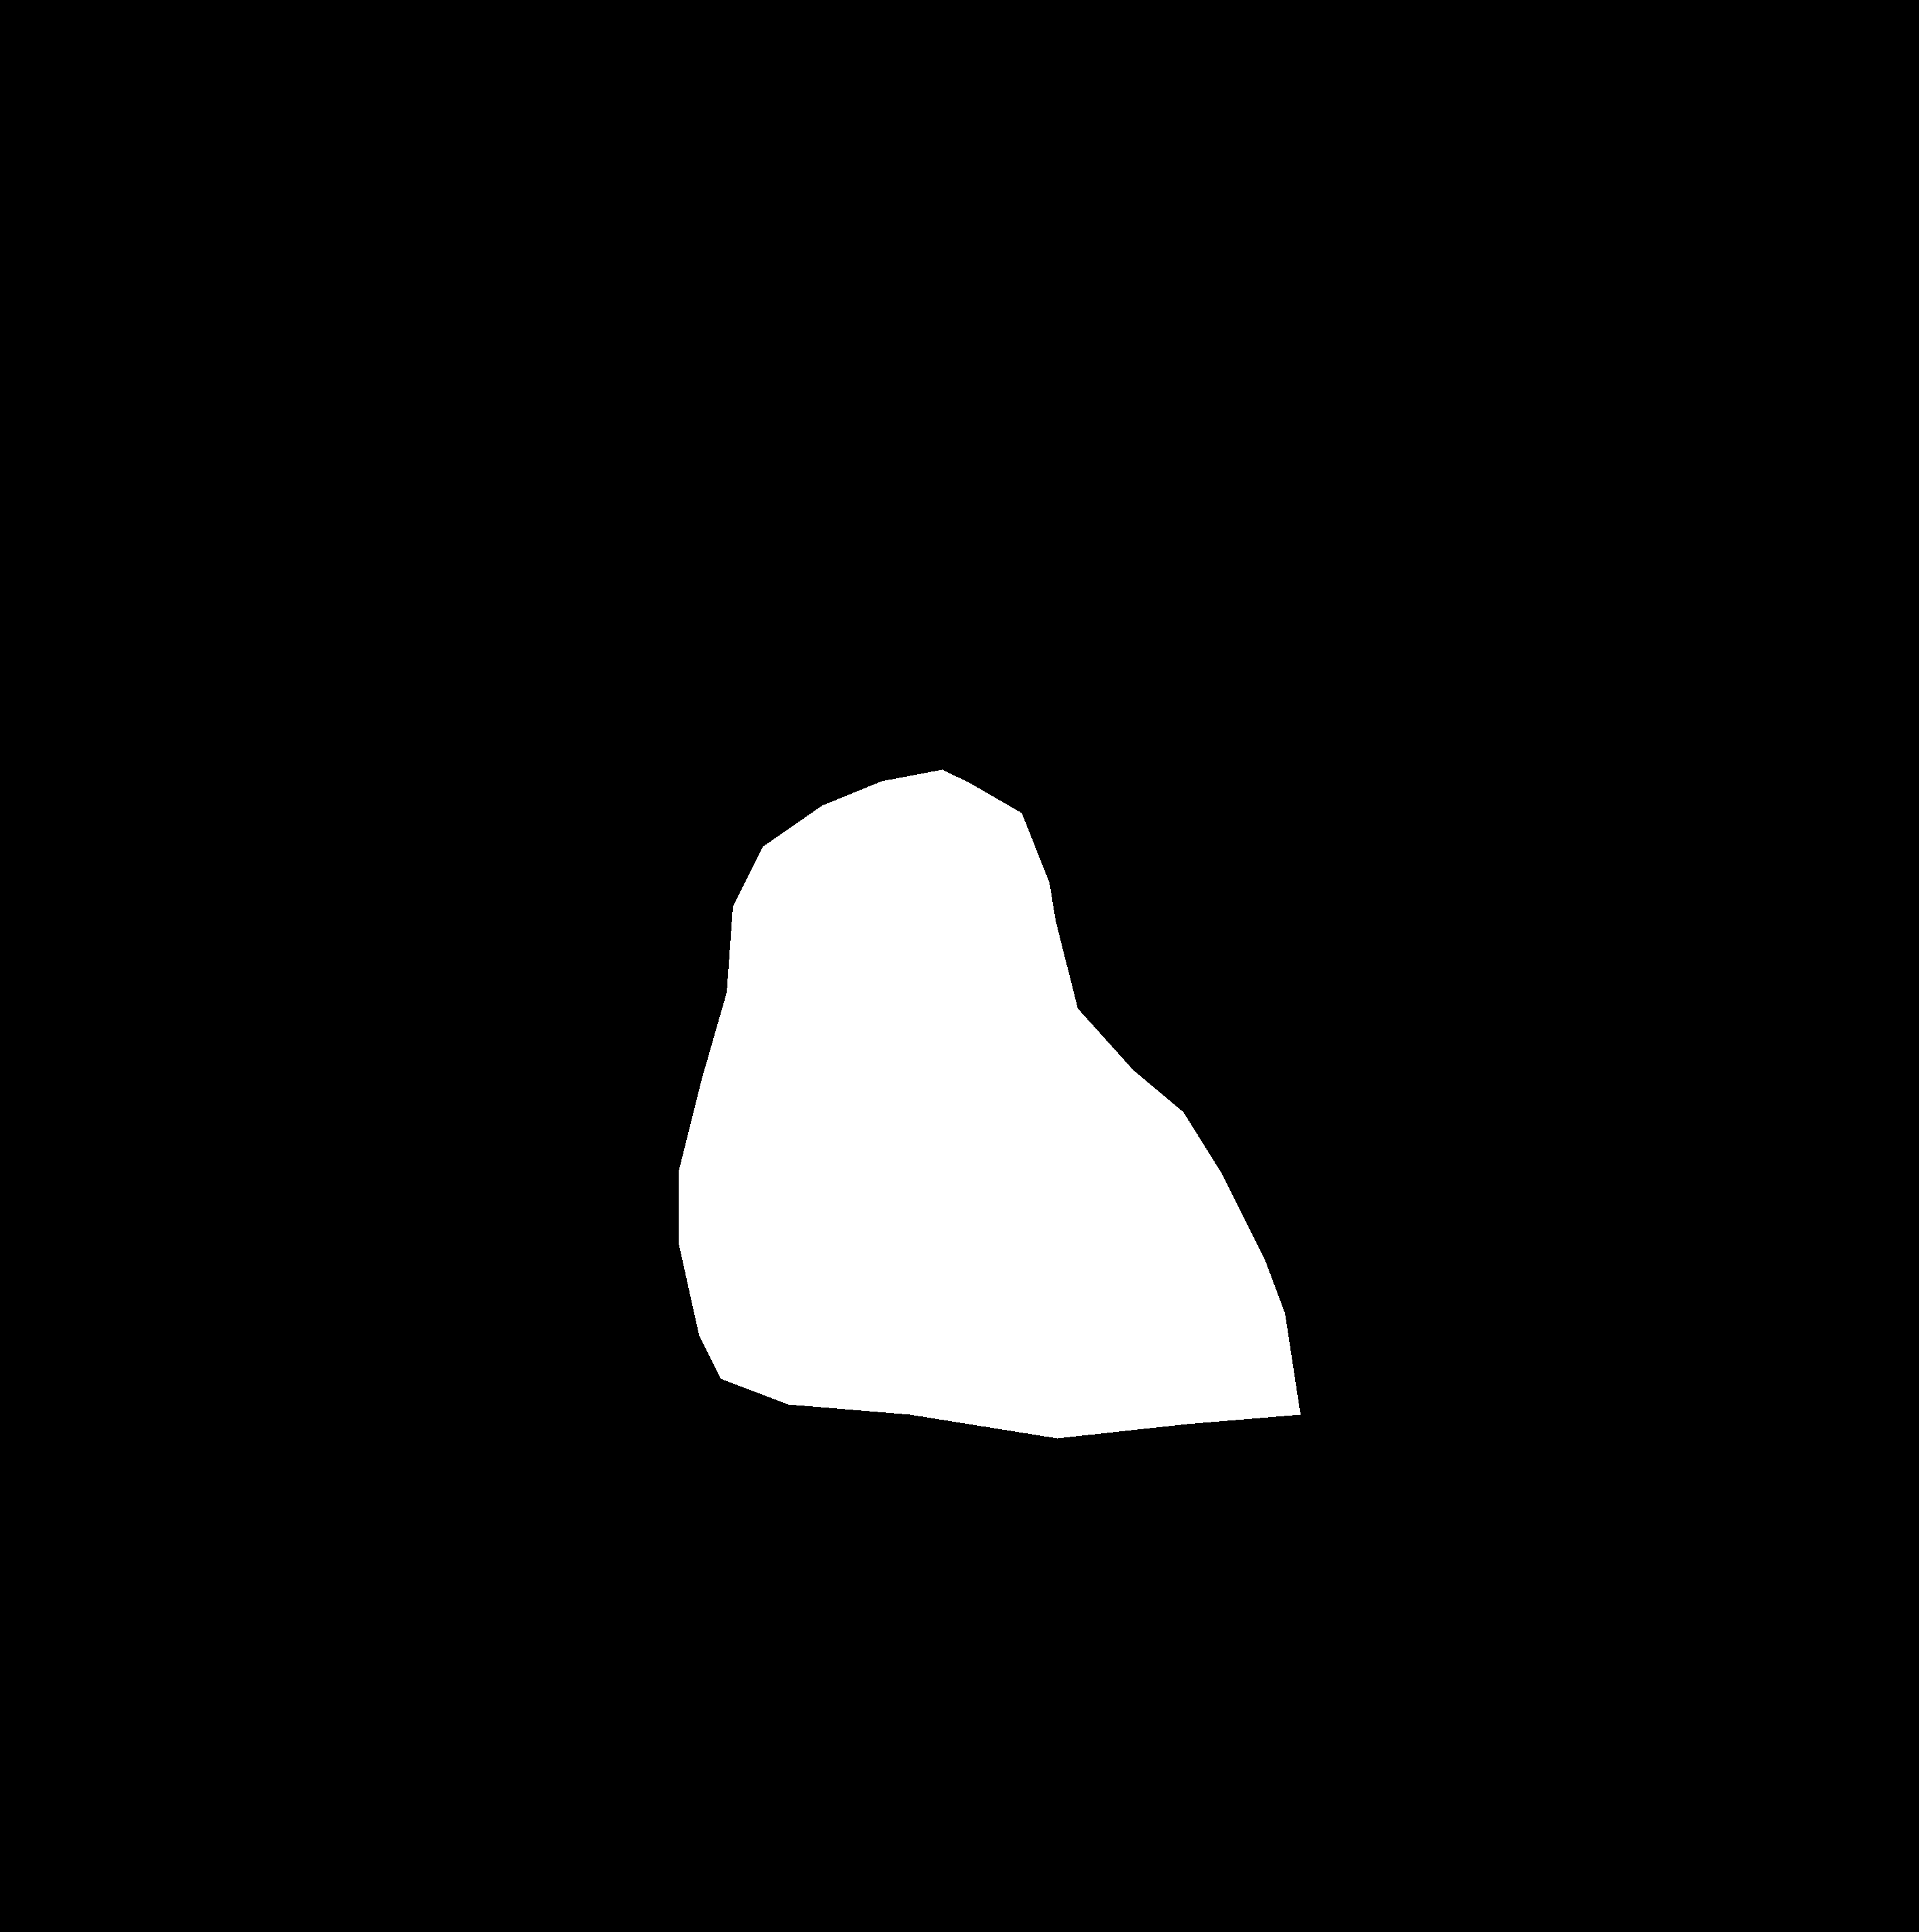heart: (678, 770, 1300, 1438)
left_lung: (223, 267, 851, 1614)
right_lung: (981, 278, 1696, 1609)
